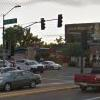Traffic light: (33, 15, 70, 39)
